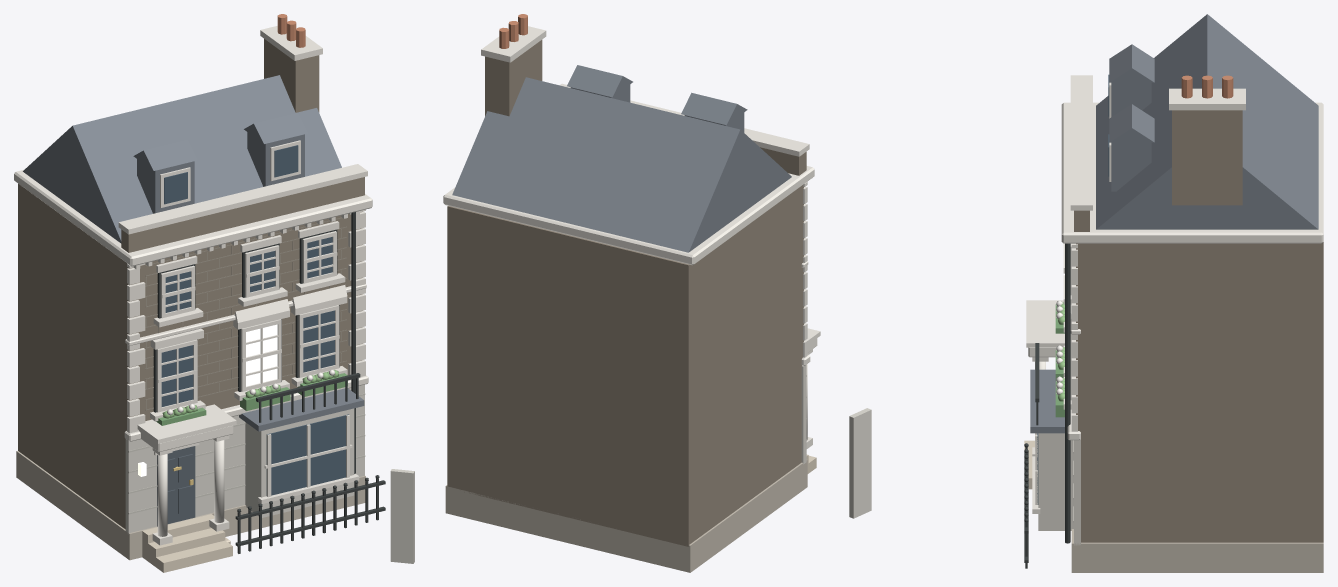
The model's file is terrace-c-3.glb.
3 views of the same model, side by side, from view 1: azimuth 30°, elevation 25°; view 2: azimuth 150°, elevation 25°; view 3: azimuth 270°, elevation 25° (orthographic). The views are drawn at different scales.
Parts seen in each view (by area): view 1: terrace-c-3; view 2: terrace-c-3; view 3: terrace-c-3.
Boxes of the visible parts, bbox=[...] form: terrace-c-3: bbox=[14, 14, 414, 572]; terrace-c-3: bbox=[443, 14, 820, 572]; terrace-c-3: bbox=[849, 14, 1323, 572].
Bounding box in the file's own units: 3.08 × 5.32 × 4.69.
